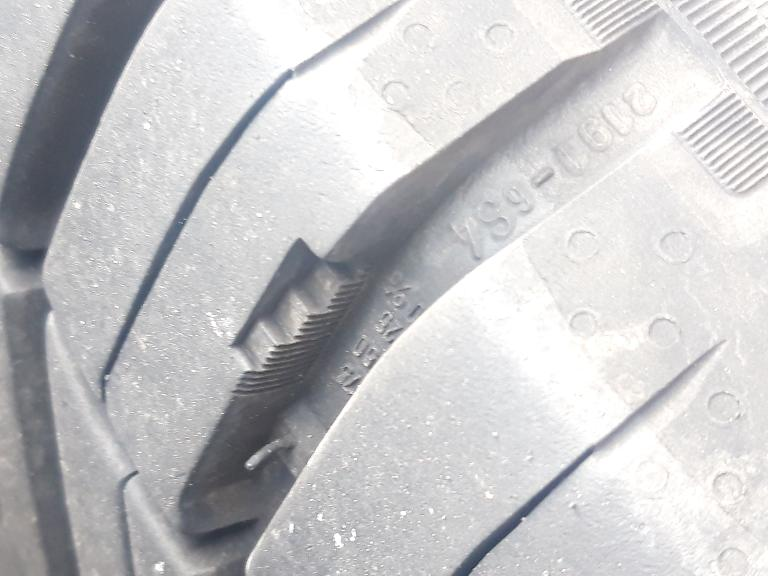temoin:90: (218, 231, 381, 404)
